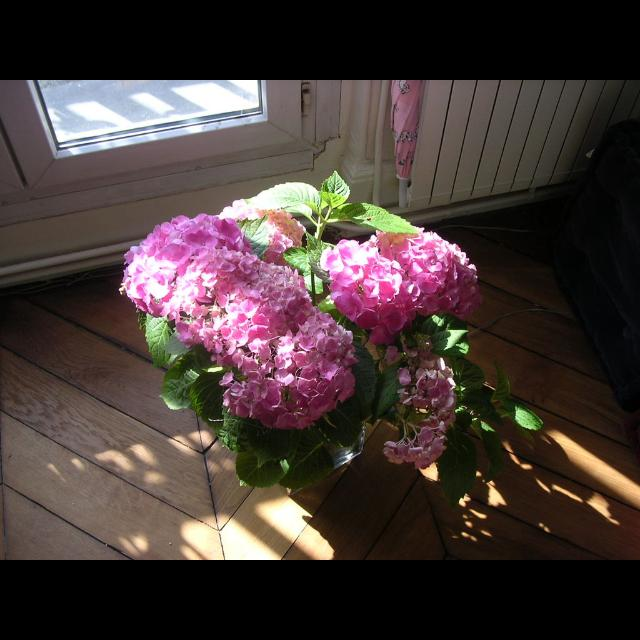Flower: (313, 213, 469, 354), (214, 309, 356, 426), (115, 213, 259, 311), (204, 261, 318, 373), (157, 246, 257, 354), (381, 344, 455, 468)
